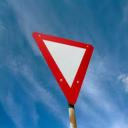preferencia: (30, 30, 101, 107)
